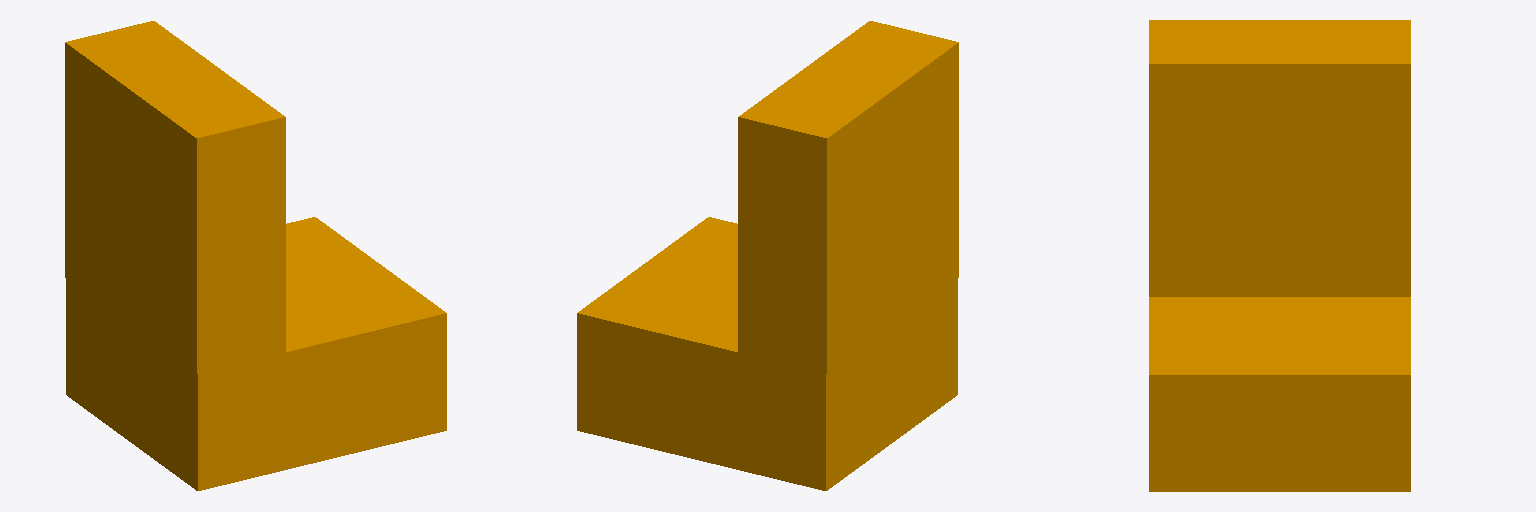
The robot description file, URDF, robot "multisense_sl":
<robot name="multisense_sl">
  <link name="head">
    <inertial>
      <origin rpy="0 0 0" xyz="-0.075493 3.3383E-05 0.02774"/>
      <!-- includes mass of hokuyo link and imu -->
      <mass value="1.477574" />
      <inertia ixx="0.0036053766" ixy="-1.5797E-06" ixz="-0.00089293" iyy="0.002080106" iyz="-6.8415E-07" izz="0.001782985"/>
    </inertial>
  <visual>
    <origin xyz="-0.0503 0 -0.00195" rpy="0 0 0" />
    <geometry>
      <box size="0.1311 0.12 0.0591"/>
    </geometry>
  </visual>
  <collision>
    <origin xyz="-0.0503 0 -0.00195" rpy="0 0 0" />
    <geometry>
      <box size="0.1311 0.12 0.0591"/>
    </geometry>
  </collision>
  <visual>
    <origin xyz="-0.093 0 0.0868" rpy="0 0 0" />
    <geometry>
      <box size="0.0468 0.12 0.1184"/>
    </geometry>
  </visual>
  <collision>
    <origin xyz="-0.093 0 0.0868" rpy="0 0 0" />
    <geometry>
      <box size="0.0468 0.12 0.1184"/>
    </geometry>
  </collision>
  </link>
</robot>

--- What the picture shows (computed from the rendered views, not written in the file) ---
3 views of the same robot in one strip: view 1: azimuth 30°, elevation 25°; view 2: azimuth 150°, elevation 25°; view 3: azimuth 270°, elevation 25° (orthographic).
Model multisense_sl with 1 links and 0 joints (none), rooted at head, posed every joint at zero.
Links seen in each view (by area): view 1: head; view 2: head; view 3: head.
Boxes of the visible links, x1,y1,x2,y2 form: head: (65, 21, 446, 490); head: (577, 21, 958, 490); head: (1149, 20, 1410, 491).
Size in the robot's own frame: 0.1317 by 0.12 by 0.1775 metres.
Geometry: primitives only (box / cylinder / sphere), no mesh files.